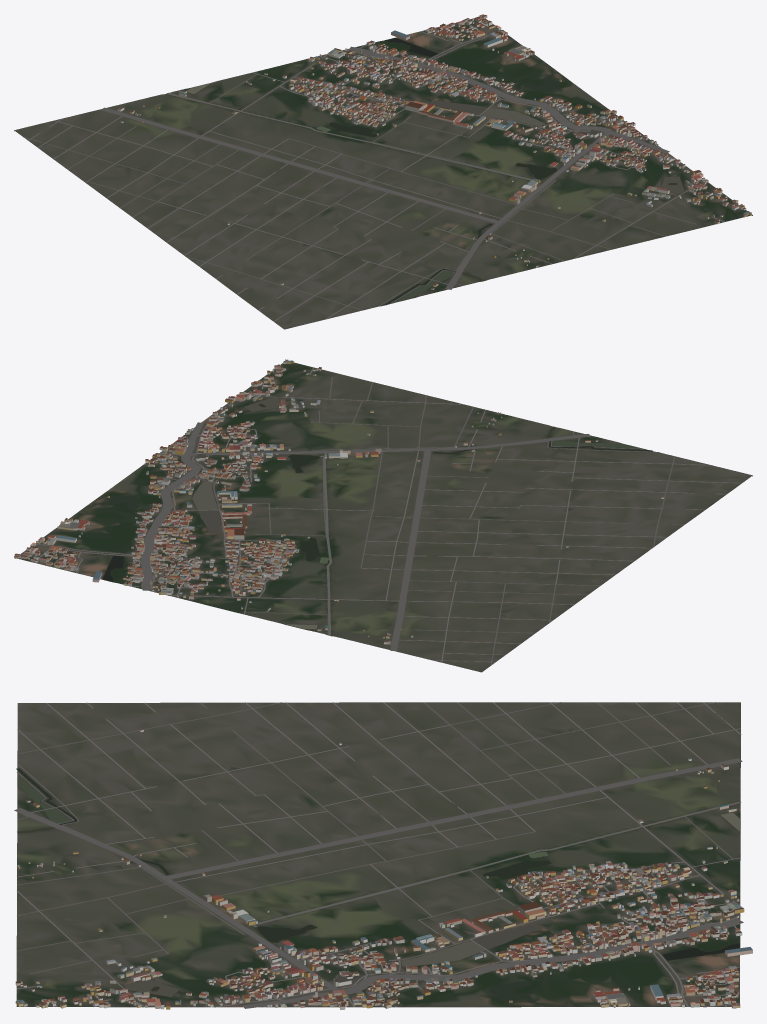
3 views of the same model, one above another, from view 1: azimuth 30°, elevation 25°; view 2: azimuth 150°, elevation 25°; view 3: azimuth 270°, elevation 25° (orthographic). The views are drawn at different scales.
Parts seen in each view (by area): view 1: ground, buildings, roads, water; view 2: ground, buildings, roads, water; view 3: ground, buildings, roads, water.
Boxes of the visible parts, x1,y1,x2,y2 form: ground: (14,18,752,329); buildings: (117,14,751,289); roads: (23,20,736,321); water: (166,37,684,305); ground: (15,362,752,672); buildings: (14,359,663,644); roads: (20,367,741,665); water: (102,397,652,635); ground: (16,702,740,1007); buildings: (15,728,752,1009); roads: (14,702,743,1008); water: (16,768,740,1001).
Bounding box in the file's own units: 1410 × 26.35 × 1432.
